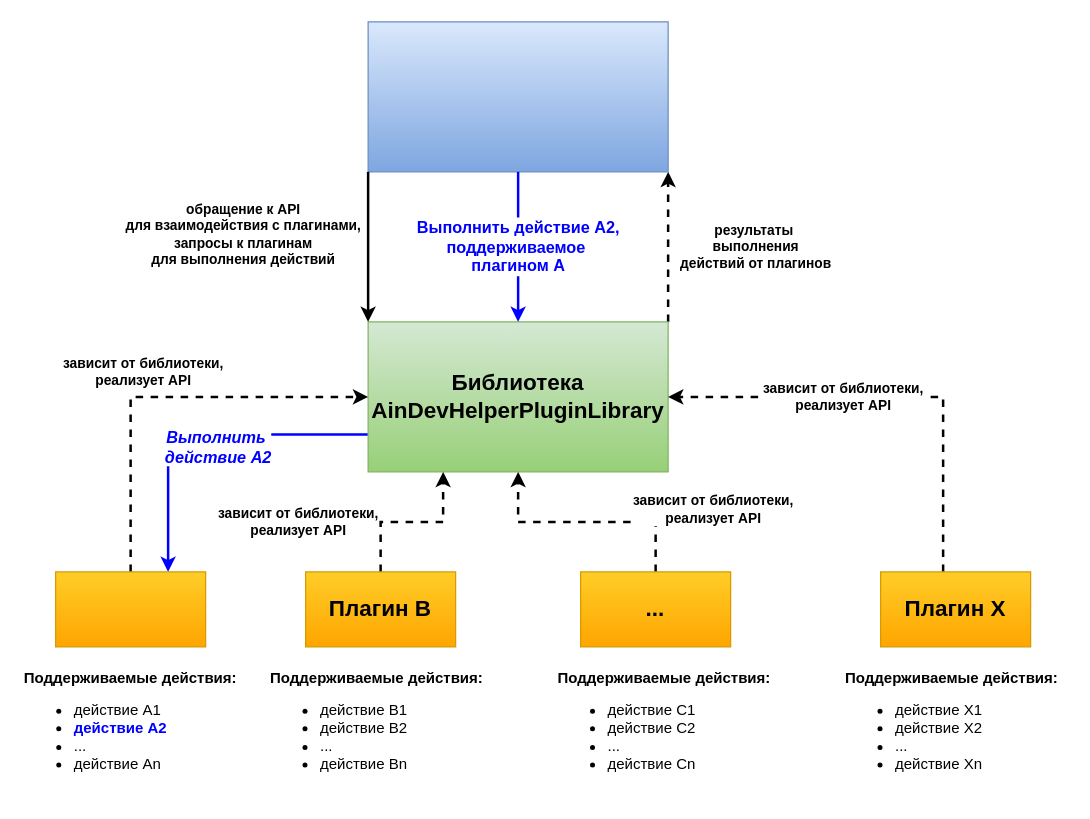
This 1090x819 diagram has some shape labels left out. Here are the shapes that lost their labels. From the top down, the centre of each, then its label:
(517,96): Приложение AinDevHelper ("хост" для плагинов)
(130,609): Плагин A
